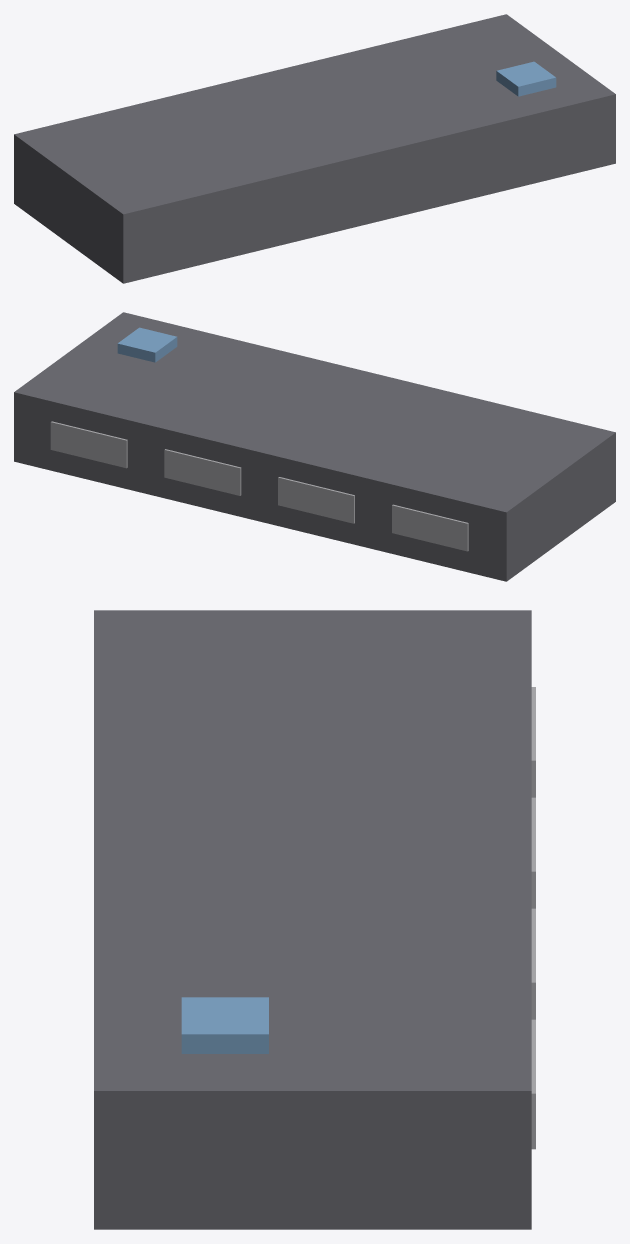
The model's file is office_hub.glb.
The picture shows the model from 3 angles, top to bottom: view 1: azimuth 30°, elevation 25°; view 2: azimuth 150°, elevation 25°; view 3: azimuth 270°, elevation 25°; orthographic projection. The views are drawn at different scales.
Parts seen in each view (by area): view 1: OFFICE_HUB_v01; view 2: OFFICE_HUB_v01; view 3: OFFICE_HUB_v01.
Boxes of the visible parts, <box> form: OFFICE_HUB_v01: <box>14,14,615,283</box>; OFFICE_HUB_v01: <box>14,312,615,581</box>; OFFICE_HUB_v01: <box>94,610,535,1229</box>.
Size of the model in its own units: 0.26 by 0.04 by 0.101.
